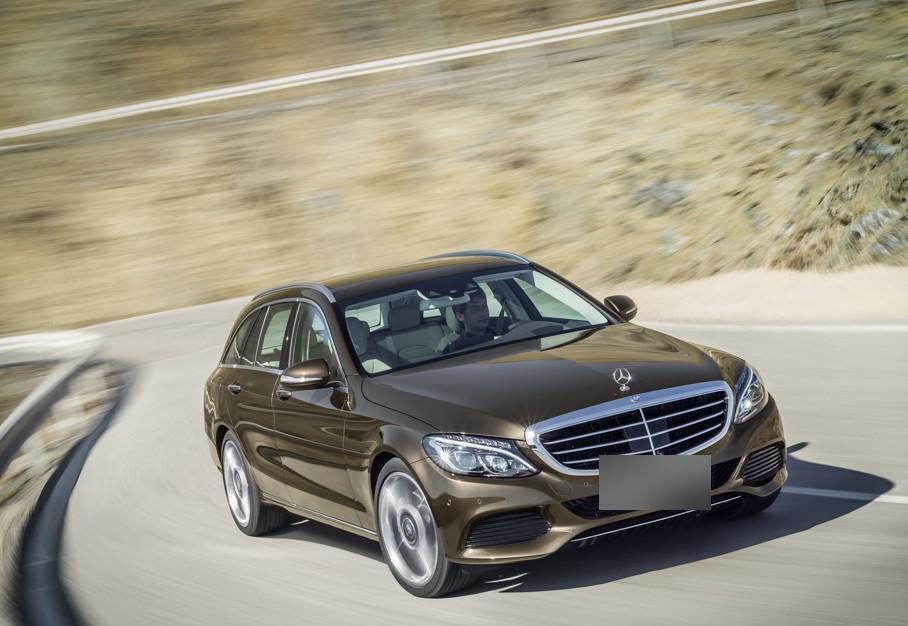Wagon: (203, 249, 789, 597)
